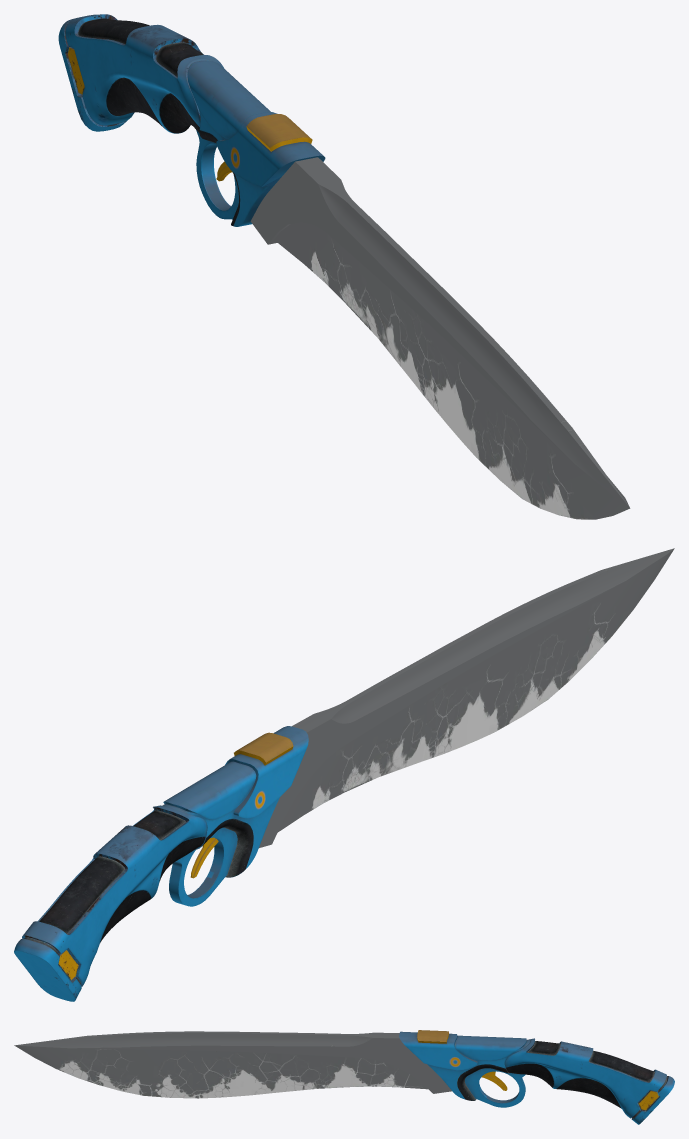
The model's file is sf-knife-db51ee0d.glb.
3 renders of one model, top to bottom at view 1: azimuth 30°, elevation 25°; view 2: azimuth 150°, elevation 25°; view 3: azimuth 270°, elevation 25°, orthographic. The views are drawn at different scales.
Parts seen in each view (by area): view 1: Cube.012_0; view 2: Cube.012_0; view 3: Cube.012_0.
Part boxes in pixels (x1,y1,x2,y2): Cube.012_0: [58, 14, 630, 519]; Cube.012_0: [14, 548, 674, 1001]; Cube.012_0: [14, 1030, 674, 1124].
Size of the model in its own units: 1.4 by 1.64 by 12.14.
Materials: 3 (3 with a texture image).
